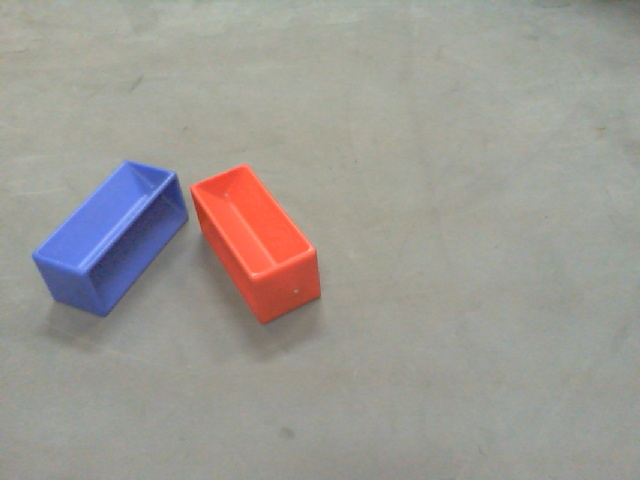BlueSample: (30, 156, 191, 317)
RedSample: (187, 162, 329, 330)
